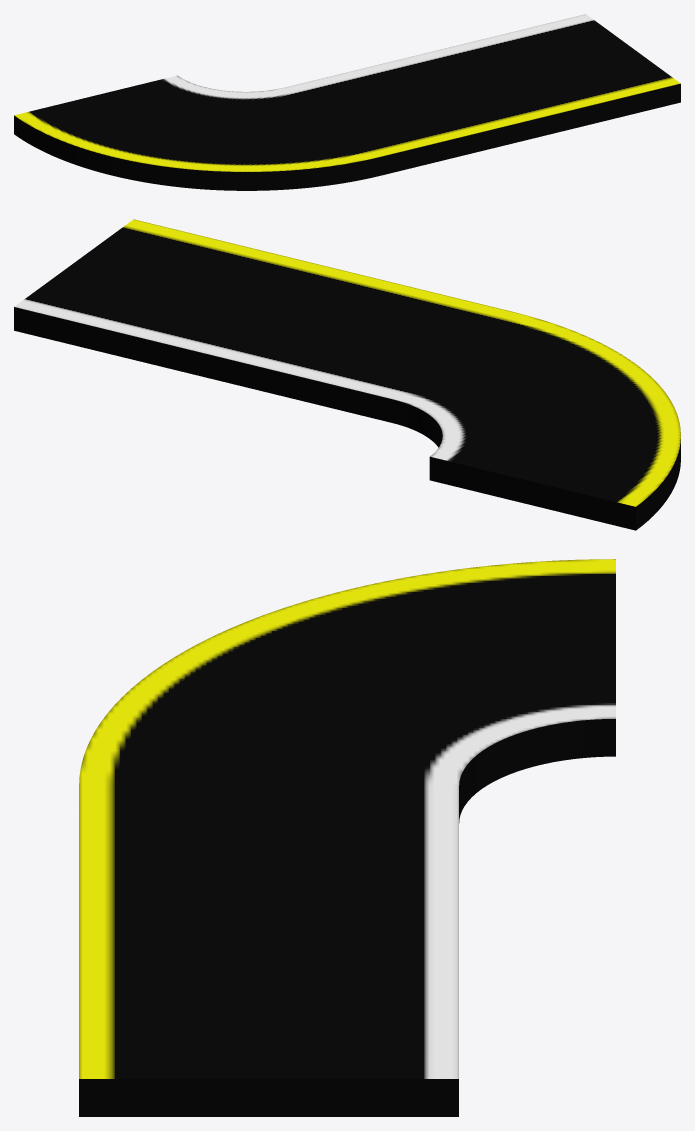
Rendered from Panel_R04_C03__Road_01.dae.
3 renders of one model, top to bottom at view 1: azimuth 30°, elevation 25°; view 2: azimuth 150°, elevation 25°; view 3: azimuth 270°, elevation 25°, orthographic. The views are drawn at different scales.
Visible parts, largest first — view 1: Object; view 2: Object; view 3: Object.
Part boxes in pixels (x1,y1,x2,y2): Object: (14,14,680,190); Object: (14,219,680,530); Object: (79,559,615,1116).
Bounding box in the file's own units: 0.8864 × 0.3868 × 0.03.
Materials: 2 (1 with a texture image).
